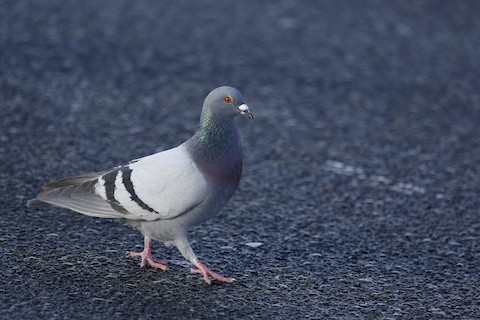pigeon: (24, 79, 258, 287)
